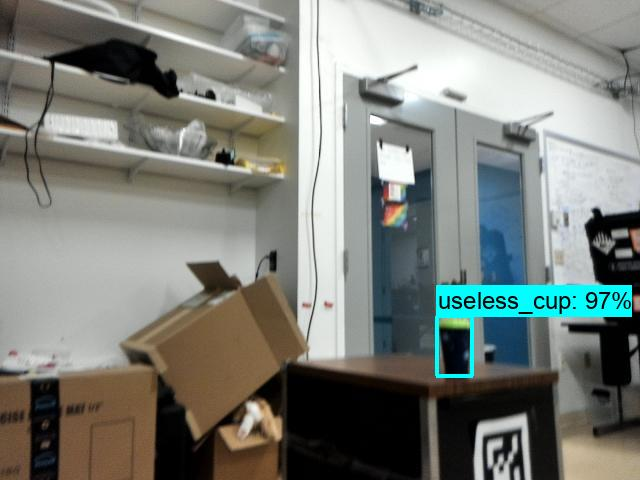useless_cup: (435, 317, 472, 374)
